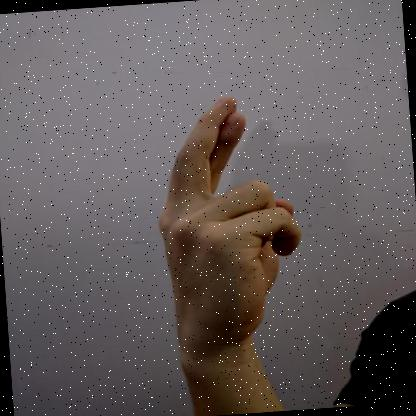R: (159, 96, 301, 353)
